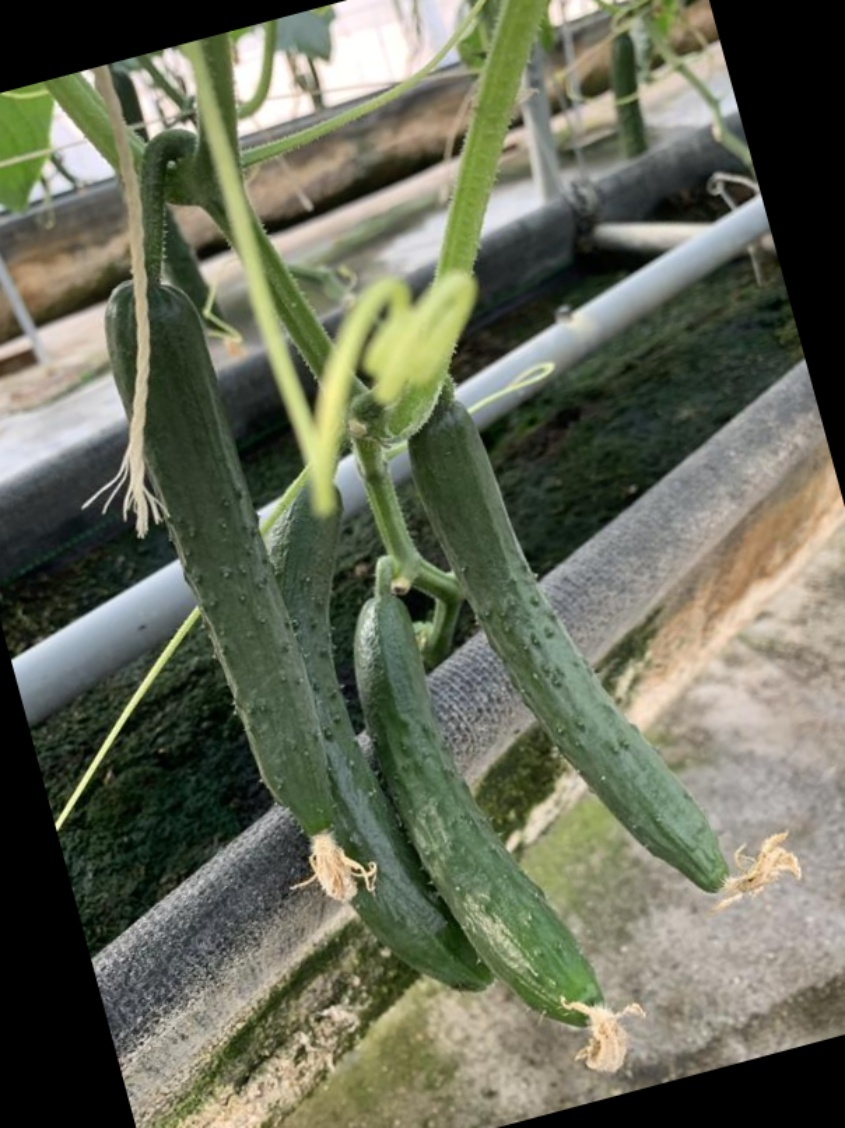mature: (271, 482, 480, 993)
